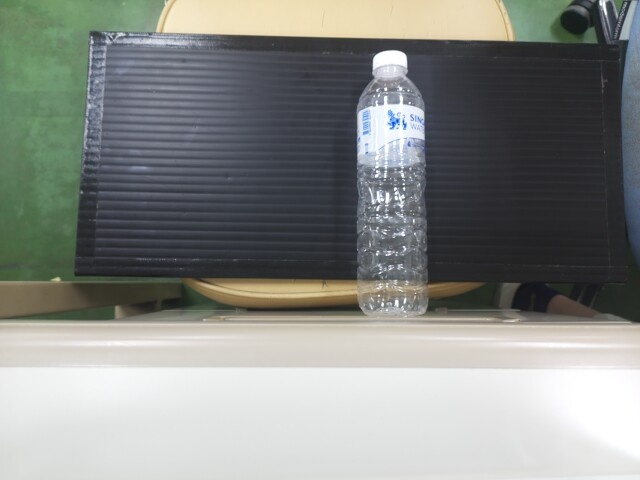plastic_bottle: (356, 51, 429, 314)
